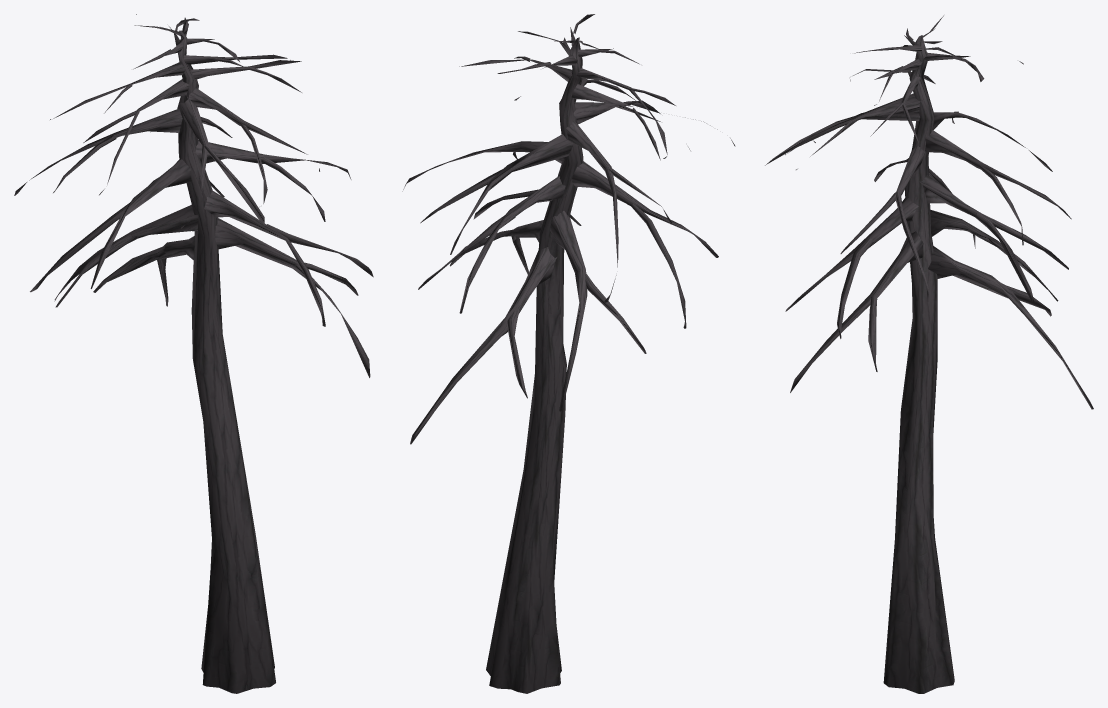
Rendered from dead_tree_free_model_b_lo.glb.
The picture shows the model from 3 angles, left to right: view 1: azimuth 30°, elevation 25°; view 2: azimuth 150°, elevation 25°; view 3: azimuth 270°, elevation 25°; orthographic projection. The views are drawn at different scales.
Visible parts, largest first — view 1: DeadTree_3; view 2: DeadTree_3; view 3: DeadTree_3.
Boxes of the visible parts, x1=… form: DeadTree_3: x1=14, y1=14, x2=373, y2=693; DeadTree_3: x1=402, y1=14, x2=735, y2=693; DeadTree_3: x1=765, y1=15, x2=1093, y2=693.
Size of the model in its own units: 6.37 by 13.27 by 6.39.
1 material, 1 textured.
